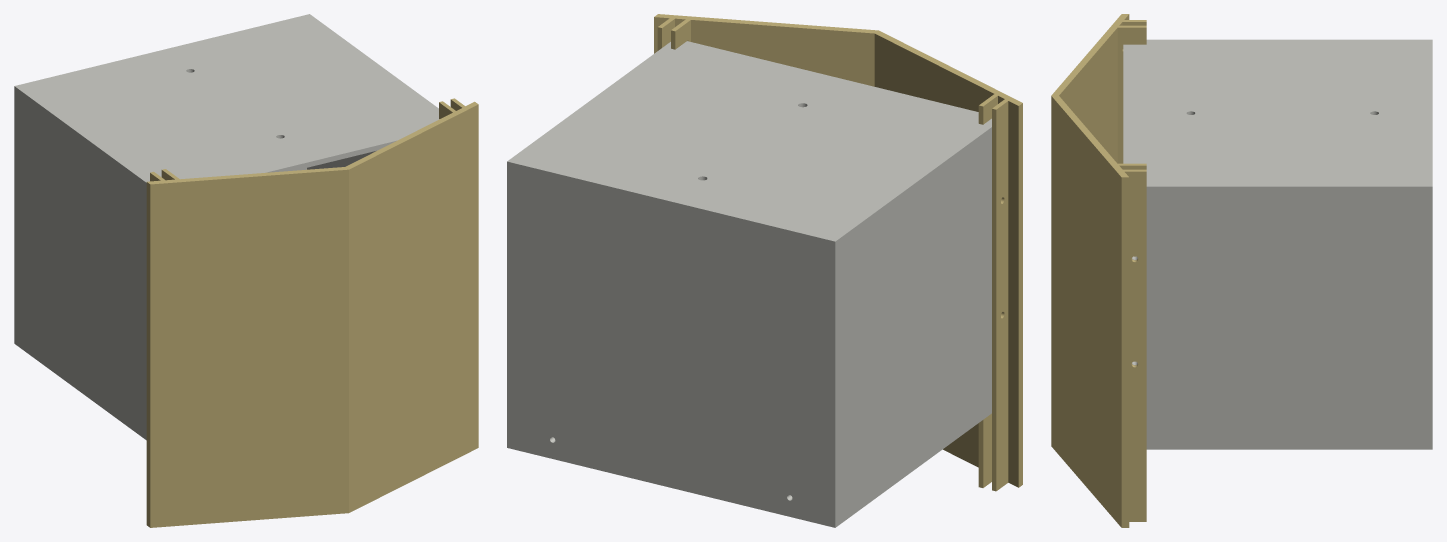
Rendered from bee-hotel-assembly.glb.
The picture shows the model from 3 angles, left to right: view 1: azimuth 30°, elevation 25°; view 2: azimuth 150°, elevation 25°; view 3: azimuth 270°, elevation 25°; orthographic projection. The views are drawn at different scales.
Visible parts, largest first — view 1: roof, housing; view 2: housing, roof; view 3: housing, roof.
Part boxes in pixels (x1=…): roof: x1=146, y1=98, x2=478, y2=527; housing: x1=14, y1=14, x2=439, y2=440; housing: x1=507, y1=41, x2=991, y2=527; roof: x1=654, y1=14, x2=1022, y2=491; housing: x1=1123, y1=39, x2=1432, y2=449; roof: x1=1051, y1=14, x2=1146, y2=527.
Bounding box in the file's own units: 200 × 200 × 197.
